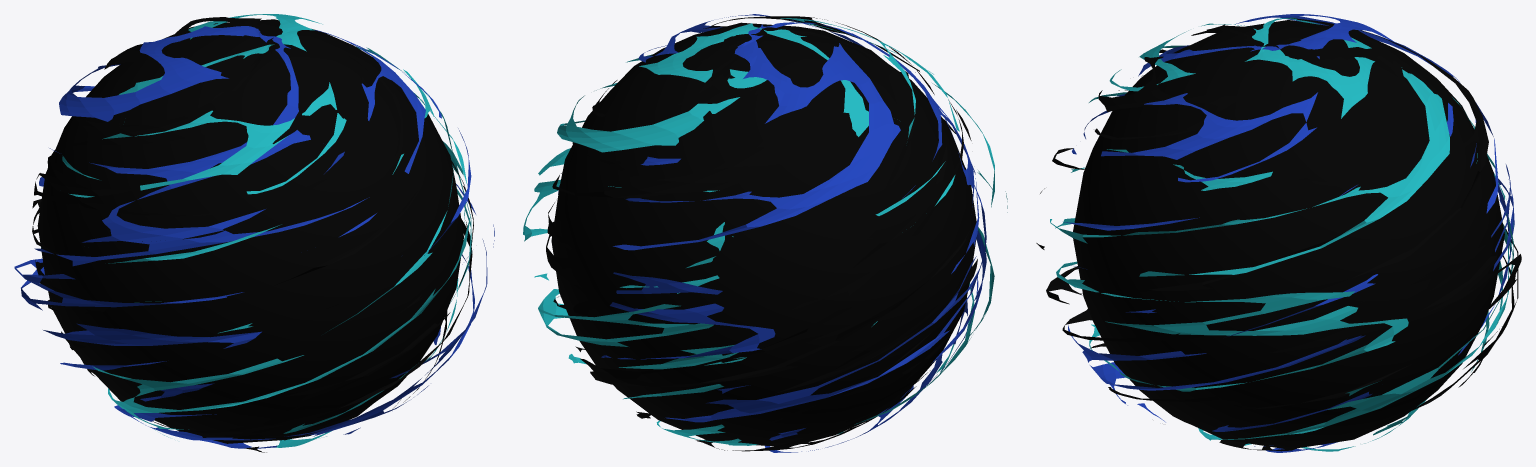
The model's file is nex.gltf.
The picture shows the model from 3 angles, left to right: view 1: azimuth 30°, elevation 25°; view 2: azimuth 150°, elevation 25°; view 3: azimuth 270°, elevation 25°; orthographic projection.
Parts seen in each view (by area): view 1: Object_4, Object_3, Object_2; view 2: Object_4, Object_3, Object_2; view 3: Object_4, Object_2, Object_3.
Boxes of the visible parts, box(x1,y1,x2,y2) form: Object_4: box(32, 17, 473, 452); Object_3: box(14, 26, 494, 448); Object_2: box(41, 14, 471, 447); Object_4: box(546, 16, 977, 451); Object_3: box(558, 14, 986, 452); Object_2: box(523, 18, 1007, 445); Object_4: box(1036, 18, 1521, 451); Object_2: box(1050, 17, 1513, 451); Object_3: box(1064, 14, 1514, 452).
Size of the model in its own units: 26.12 by 24 by 26.93.
